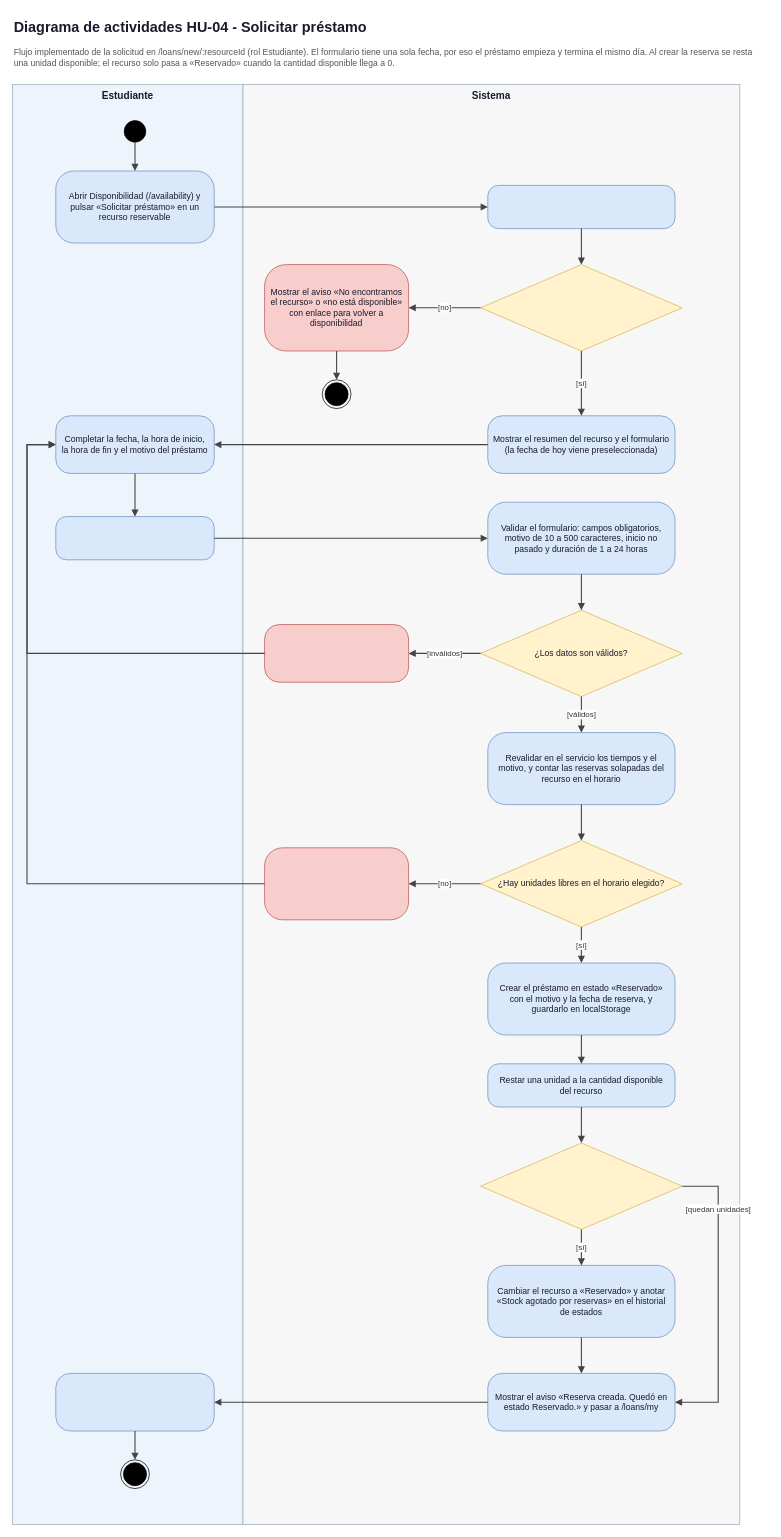
Some shapes in this 781 by 1537 pixel diagram are drawn without their labels. Each missing label, with the centre of its shape:
Cargar el recurso indicado en la ruta /loans/new/:resourceId: the point at 581,207
Mostrar el error junto al campo inválido y bloquear el botón hasta corregirlo: the point at 336,653
Mostrar la alerta «El recurso no está disponible en el horario seleccionado.»: the point at 336,883
Pulsar «Confirmar reserva»: the point at 134,538
Ver la reserva en Mis préstamos con estado «Reservado»: the point at 134,1402
¿El recurso existe y se puede reservar?: the point at 581,307
¿La cantidad disponible llegó a 0?: the point at 581,1185
